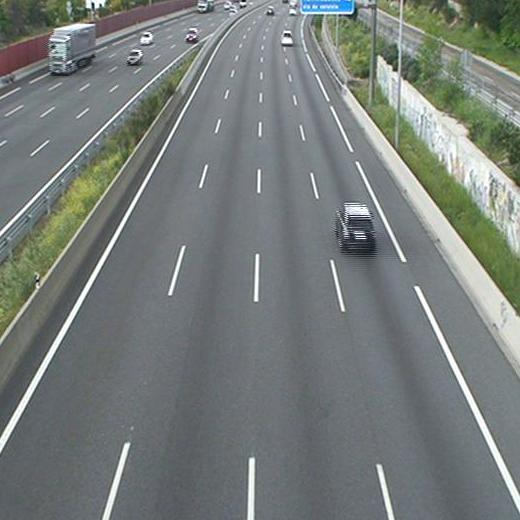car: (334, 202, 378, 254), (280, 29, 293, 46)
